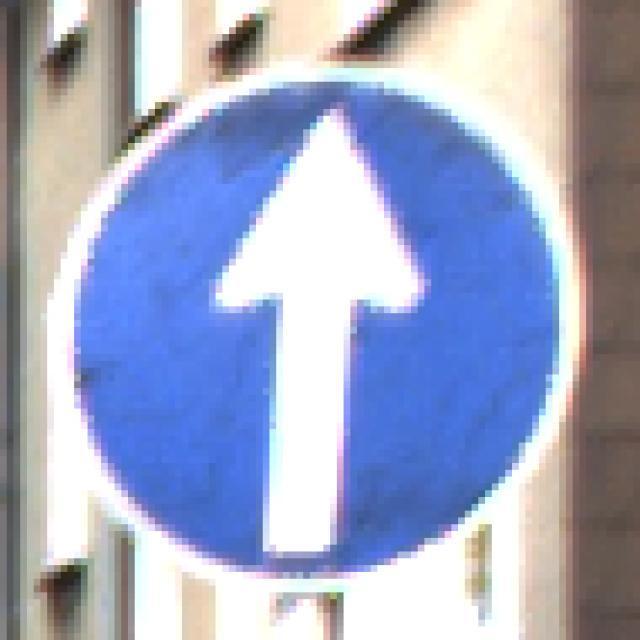compulsary ahead: (62, 70, 567, 560)
